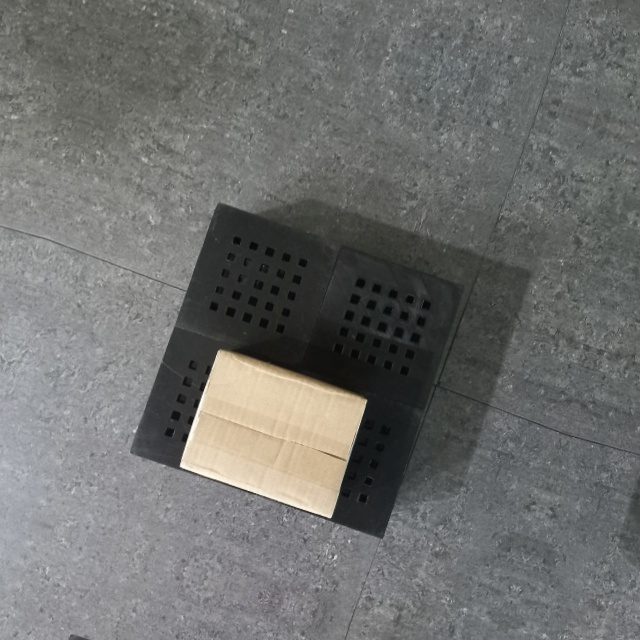box: (175, 344, 371, 524)
pallet: (118, 187, 478, 554)
